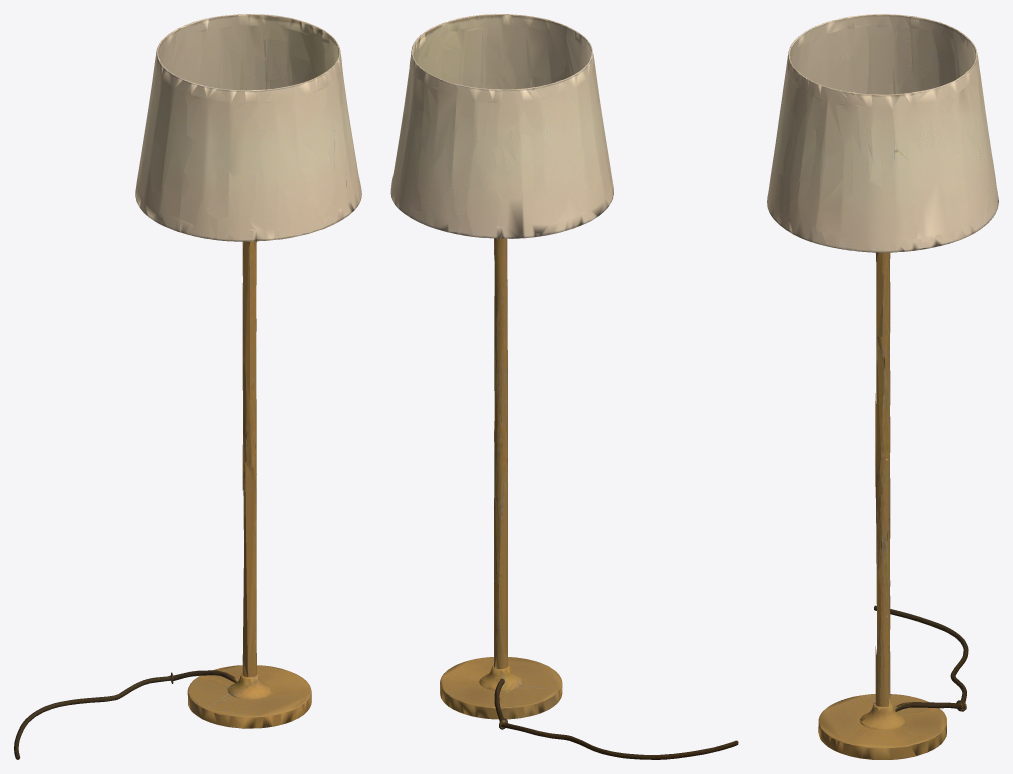
File: lamp.glb
3 renders of one model, left to right at view 1: azimuth 30°, elevation 25°; view 2: azimuth 150°, elevation 25°; view 3: azimuth 270°, elevation 25°, orthographic. The views are drawn at different scales.
Bounding box in the file's own units: 1.02 × 1.9 × 0.5896.
Materials: 1 (1 with a texture image).
